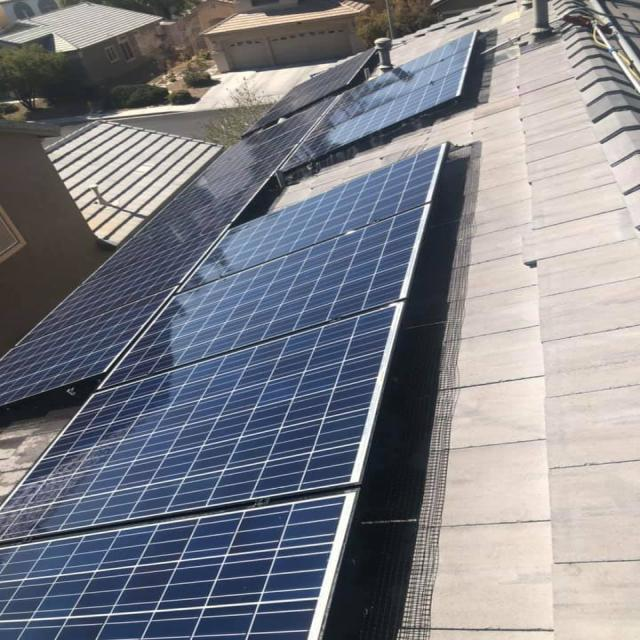clean-solar-panel: (2, 146, 445, 640), (0, 96, 339, 405), (282, 33, 477, 172)
